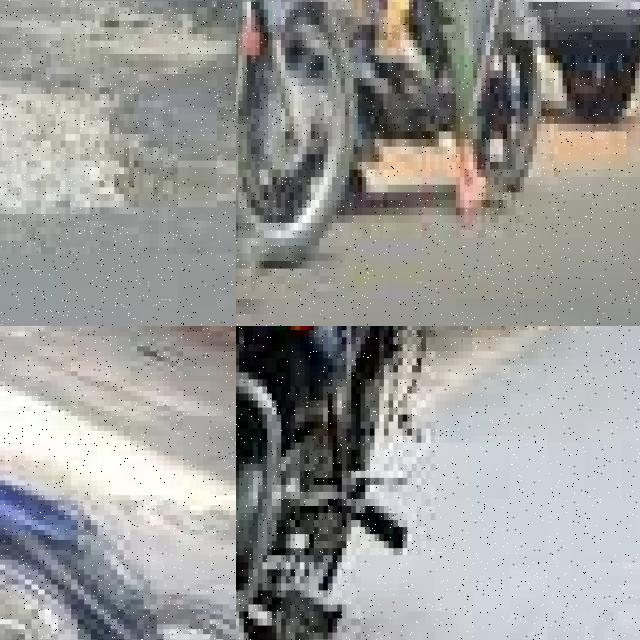bike: (236, 326, 491, 640), (236, 0, 549, 230), (0, 326, 209, 640), (236, 0, 366, 321)
